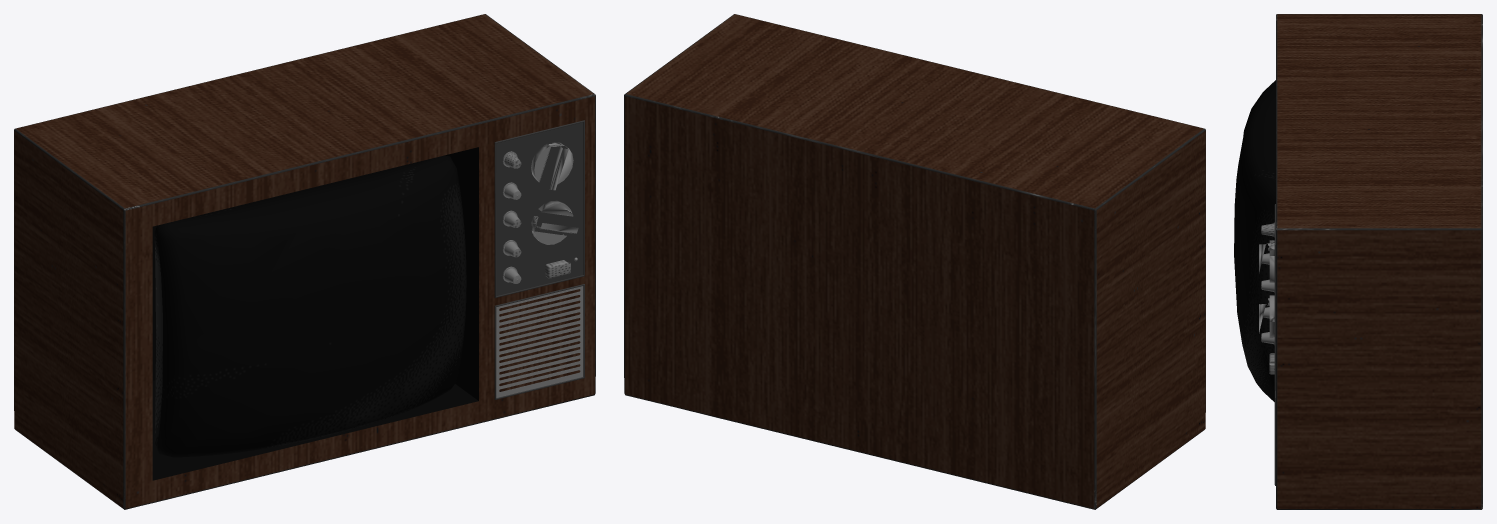
The model's file is television-texturizada.FBX.
3 views of the same model, side by side, from view 1: azimuth 30°, elevation 25°; view 2: azimuth 150°, elevation 25°; view 3: azimuth 270°, elevation 25° (orthographic). The views are drawn at different scales.
Parts seen in each view (by area): view 1: Box03; view 2: Box03; view 3: Box03.
Part boxes in pixels (bbox=[...]): Box03: bbox=[14, 14, 595, 509]; Box03: bbox=[624, 14, 1205, 509]; Box03: bbox=[1234, 14, 1482, 509].
Bounding box in the file's own units: 133 × 84.39 × 64.93.
1 material, 1 textured.
